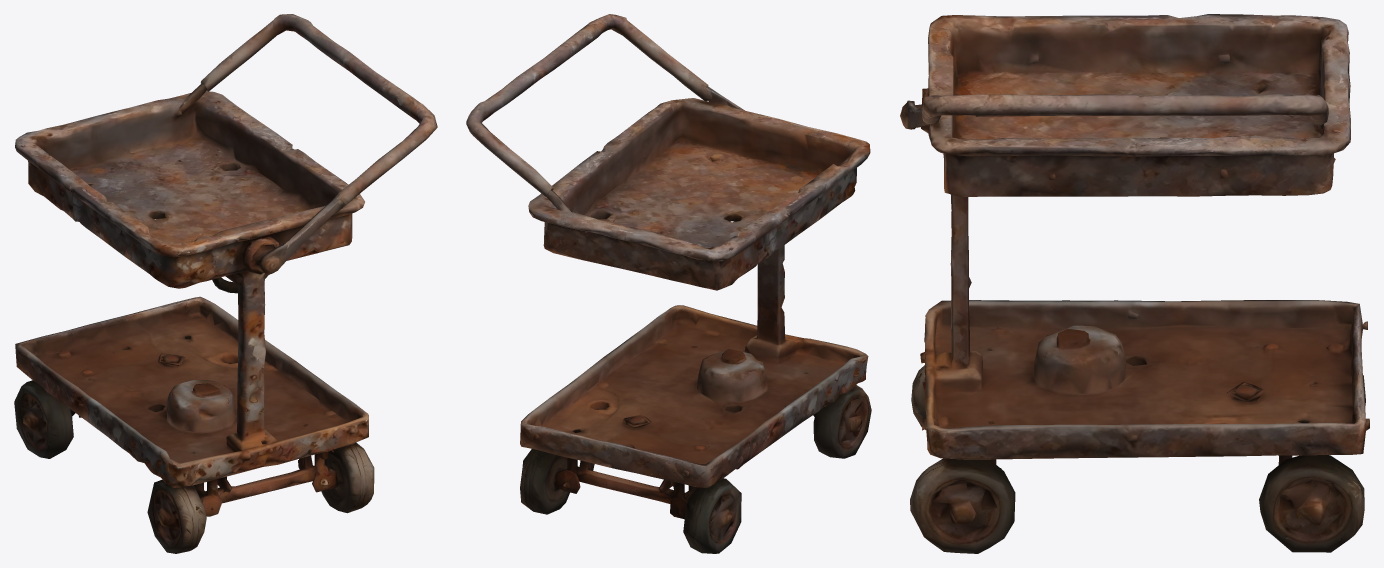
File: computer_cart.glb
3 renders of one model, left to right at view 1: azimuth 30°, elevation 25°; view 2: azimuth 150°, elevation 25°; view 3: azimuth 270°, elevation 25°, orthographic. The views are drawn at different scales.
Visible parts, largest first — view 1: computer_cart / mesh; view 2: computer_cart / mesh; view 3: computer_cart / mesh.
Boxes of the visible parts, x1,y1,x2,y2 form: computer_cart / mesh: [14, 14, 437, 553]; computer_cart / mesh: [466, 14, 871, 553]; computer_cart / mesh: [900, 14, 1369, 553].
Size of the model in its own units: 0.7967 by 1.05 by 0.8797.
Materials: 1 (1 with a texture image).
